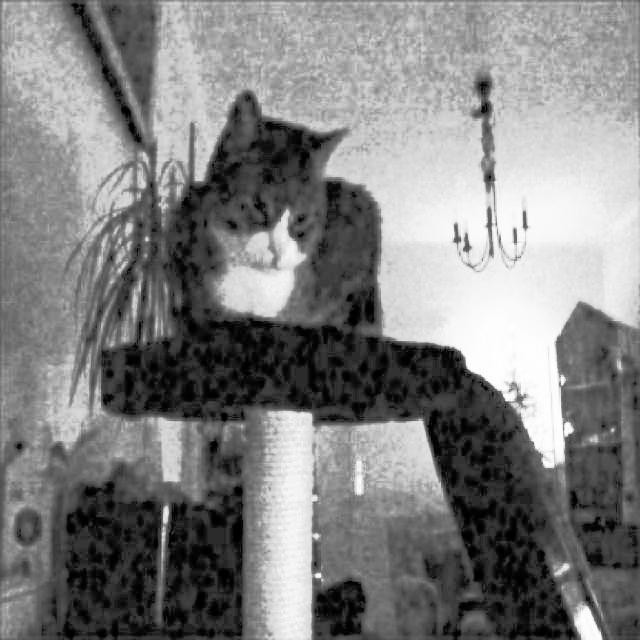Cat: (171, 77, 384, 343)
